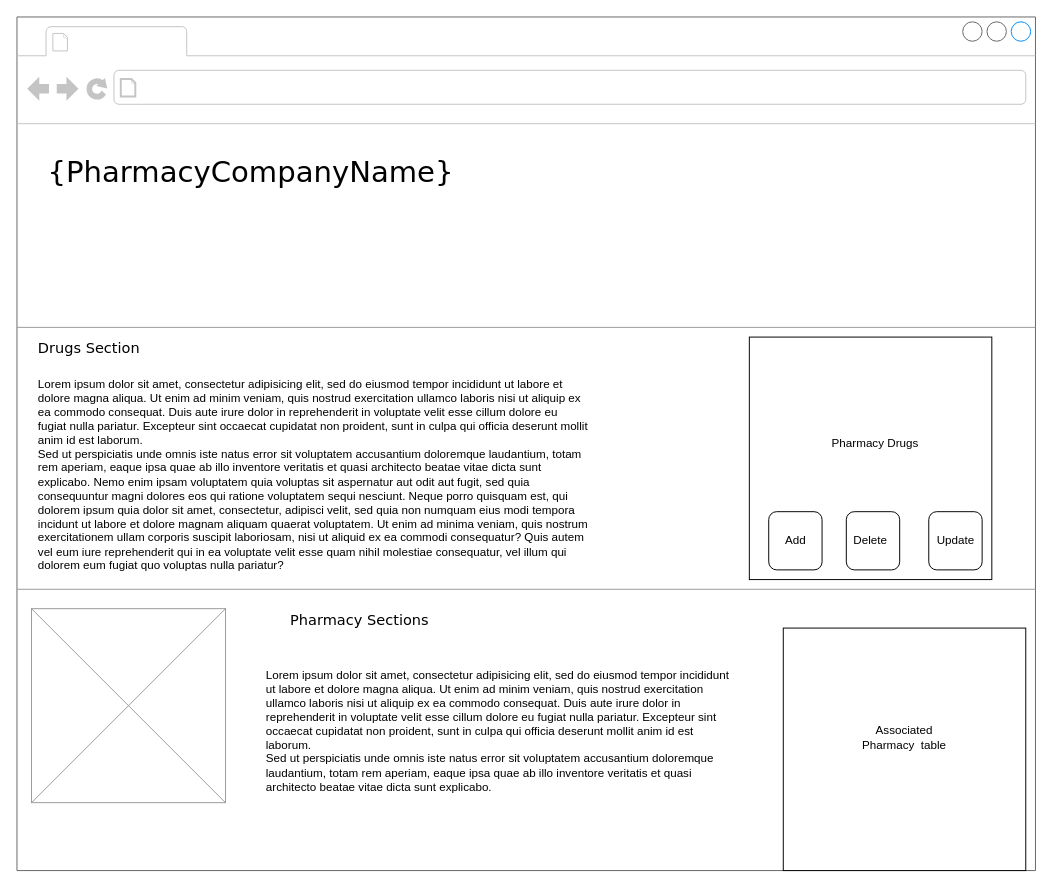
The diagram is 1052 pixels wide and 888 high, and some of its shapes have lost their labels. The centre of each missing label's shape, as x and y in pixels:
https://www.cadawer.com/patient.html: (x=293, y=92)
Page 1: (x=128, y=41)
